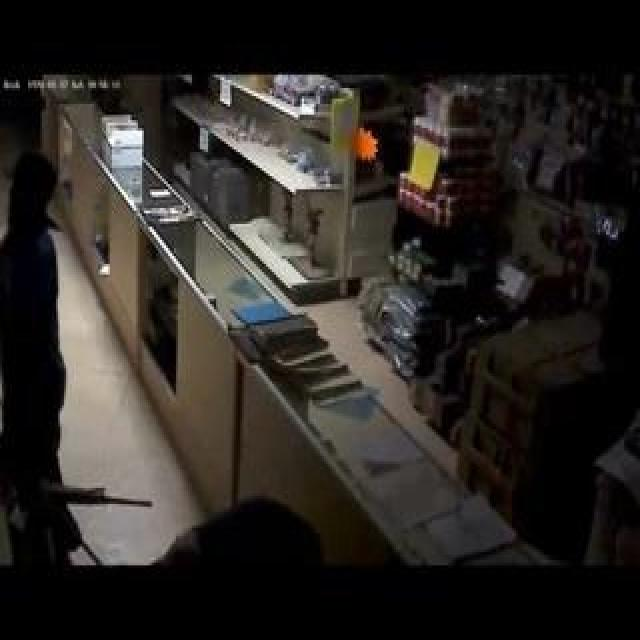thief: (8, 145, 71, 289)
